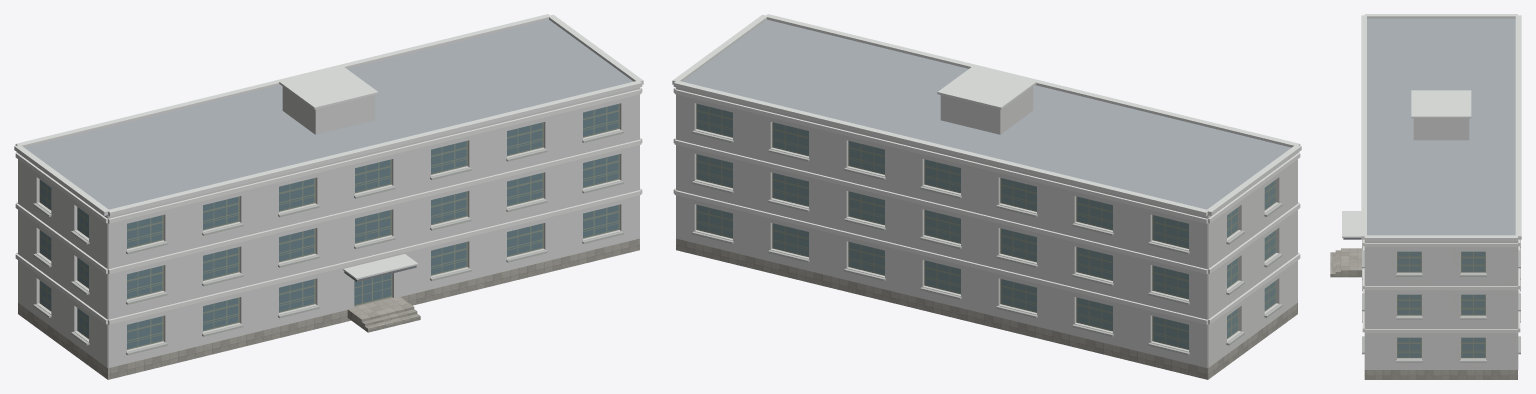
The picture shows the model from 3 angles, left to right: view 1: azimuth 30°, elevation 25°; view 2: azimuth 150°, elevation 25°; view 3: azimuth 270°, elevation 25°; orthographic projection. The views are drawn at different scales.
Visible parts, largest first — view 1: info-wing__panel, info-wing__metalroof, info-wing__glass, info-wing__cap, info-wing__band, info-wing__frame, info-wing__stone, info-wing__sill, info-wing__sideglass, info-wing__stair-front, info-wing__threshold-front; view 2: info-wing__panel, info-wing__metalroof, info-wing__sideglass, info-wing__cap, info-wing__band, info-wing__frame, info-wing__stone, info-wing__sill; view 3: info-wing__metalroof, info-wing__panel, info-wing__cap, info-wing__sideglass, info-wing__band, info-wing__stone, info-wing__frame, info-wing__sill, info-wing__threshold-front, info-wing__stair-front.
Part boxes in pixels (x1=…): info-wing__panel: x1=18, y1=86, x2=639, y2=368; info-wing__metalroof: x1=25, y1=19, x2=633, y2=216; info-wing__glass: x1=127, y1=104, x2=618, y2=348; info-wing__cap: x1=14, y1=14, x2=643, y2=279; info-wing__band: x1=15, y1=87, x2=642, y2=324; info-wing__frame: x1=39, y1=103, x2=619, y2=349; info-wing__stone: x1=18, y1=238, x2=639, y2=379; info-wing__sill: x1=33, y1=130, x2=623, y2=355; info-wing__sideglass: x1=40, y1=180, x2=88, y2=337; info-wing__stair-front: x1=358, y1=304, x2=420, y2=332; info-wing__threshold-front: x1=347, y1=296, x2=410, y2=325; info-wing__panel: x1=676, y1=86, x2=1297, y2=368; info-wing__metalroof: x1=682, y1=19, x2=1290, y2=216; info-wing__sideglass: x1=697, y1=104, x2=1275, y2=348; info-wing__cap: x1=672, y1=14, x2=1301, y2=216; info-wing__band: x1=673, y1=87, x2=1300, y2=324; info-wing__frame: x1=696, y1=103, x2=1276, y2=349; info-wing__stone: x1=676, y1=238, x2=1297, y2=379; info-wing__sill: x1=692, y1=130, x2=1282, y2=355; info-wing__metalroof: x1=1367, y1=18, x2=1515, y2=235; info-wing__panel: x1=1364, y1=118, x2=1518, y2=369; info-wing__cap: x1=1342, y1=14, x2=1521, y2=241; info-wing__sideglass: x1=1398, y1=251, x2=1484, y2=357; info-wing__band: x1=1362, y1=239, x2=1520, y2=333; info-wing__stone: x1=1364, y1=370, x2=1517, y2=379; info-wing__frame: x1=1397, y1=251, x2=1485, y2=358; info-wing__sill: x1=1362, y1=239, x2=1520, y2=362; info-wing__threshold-front: x1=1346, y1=248, x2=1362, y2=277; info-wing__stair-front: x1=1330, y1=248, x2=1346, y2=277.
Size of the model in its own units: 38 by 13.14 by 13.72.
Materials: 11 (1 with a texture image).
